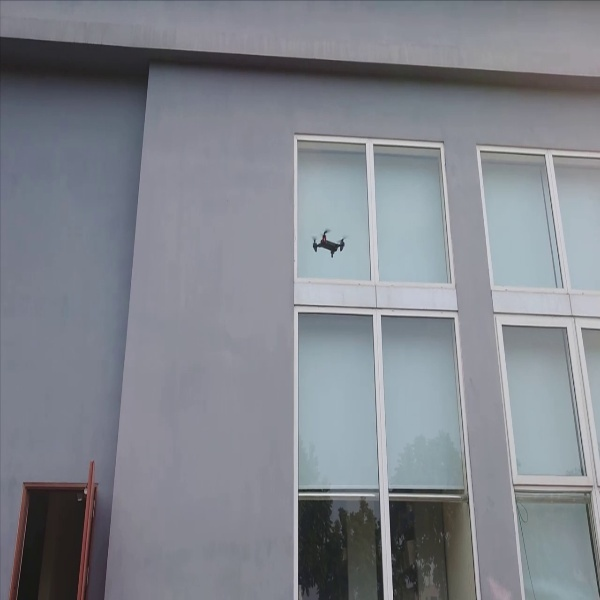drone: (305, 226, 350, 260)
